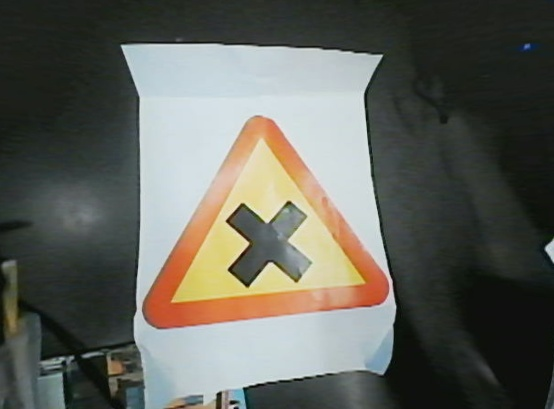junction: (139, 112, 399, 336)
